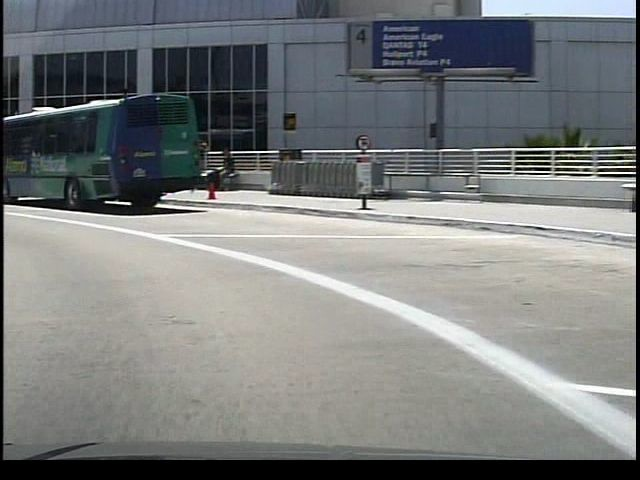person: (208, 145, 234, 193)
